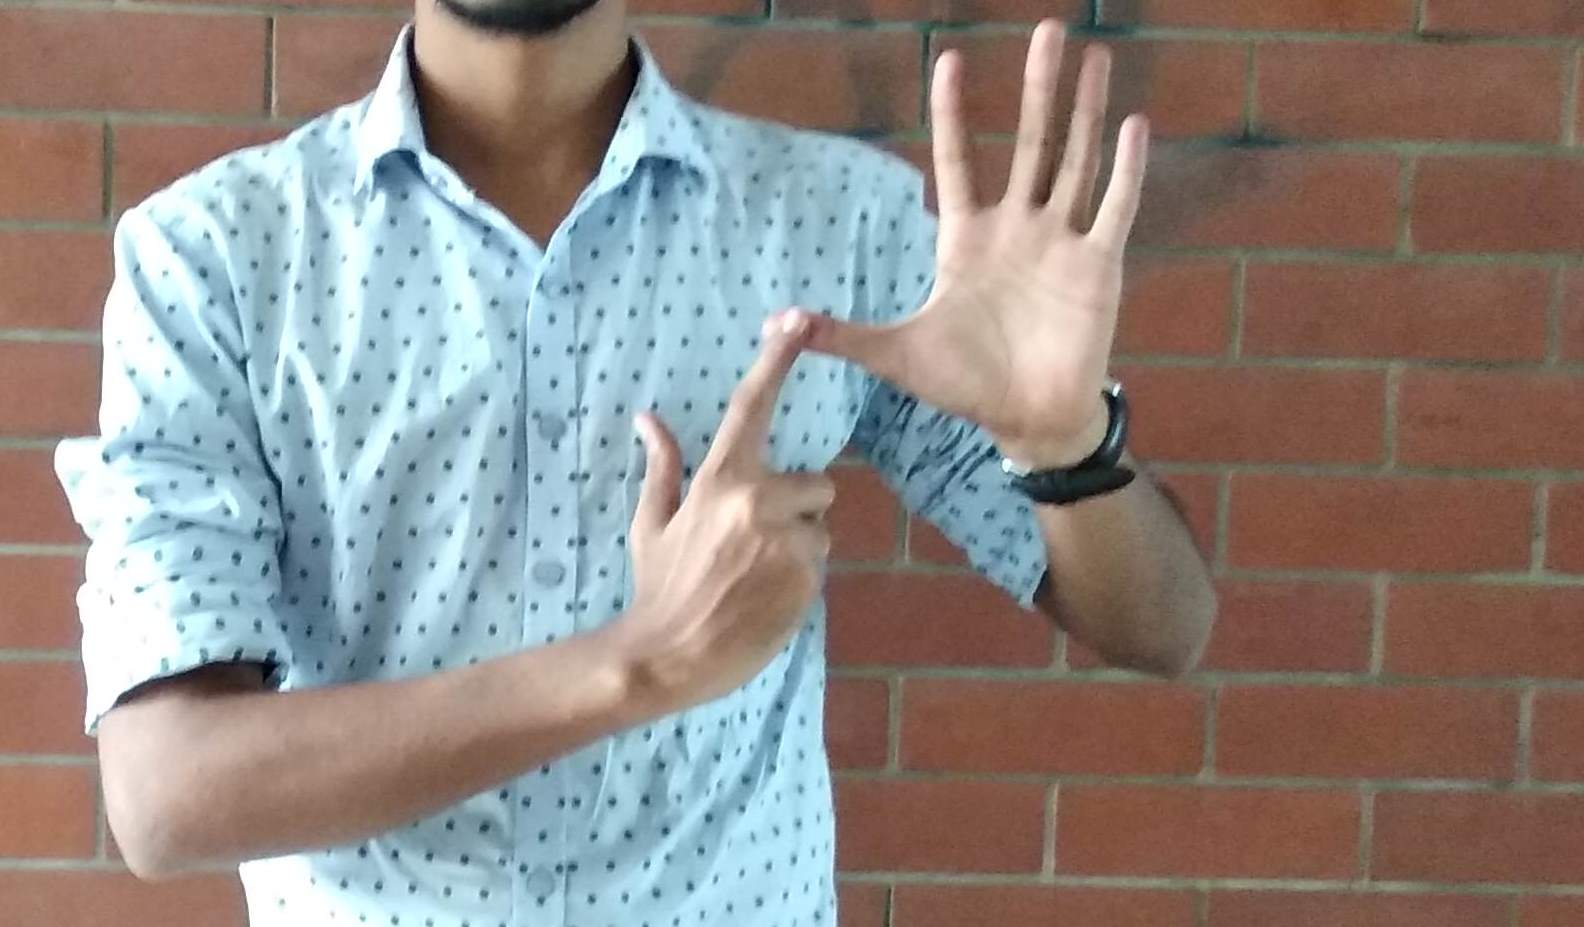a: (641, 100, 1178, 708)
